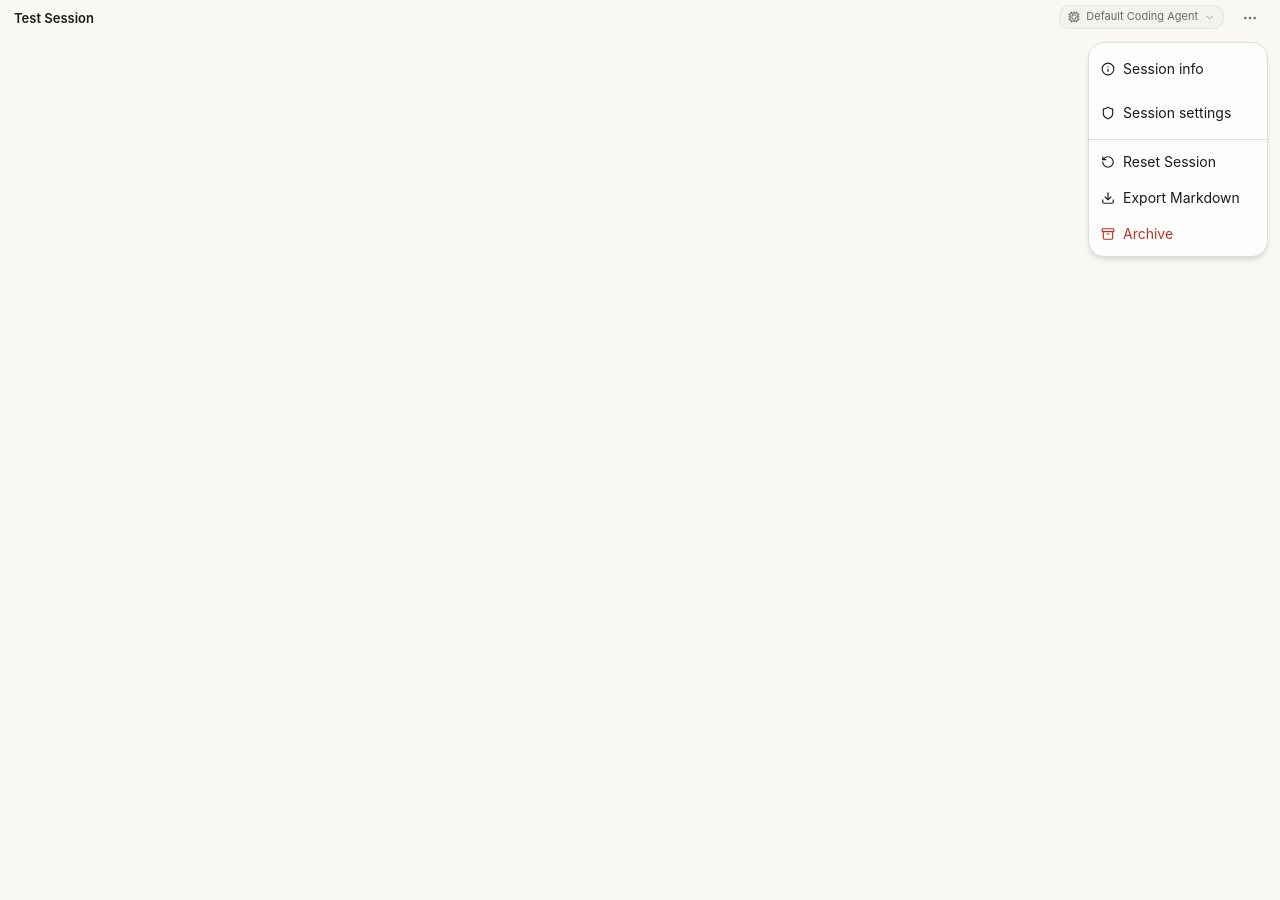
Test: SessionHeader › mobile session info › opens the info overlay (with context %) from the mobile menu and closes it again
The width and height of the screenshot is (1280, 900).
Click the button "Session info". click: (1178, 69)
box: top-left (1089, 47), bottom-right (1267, 91)
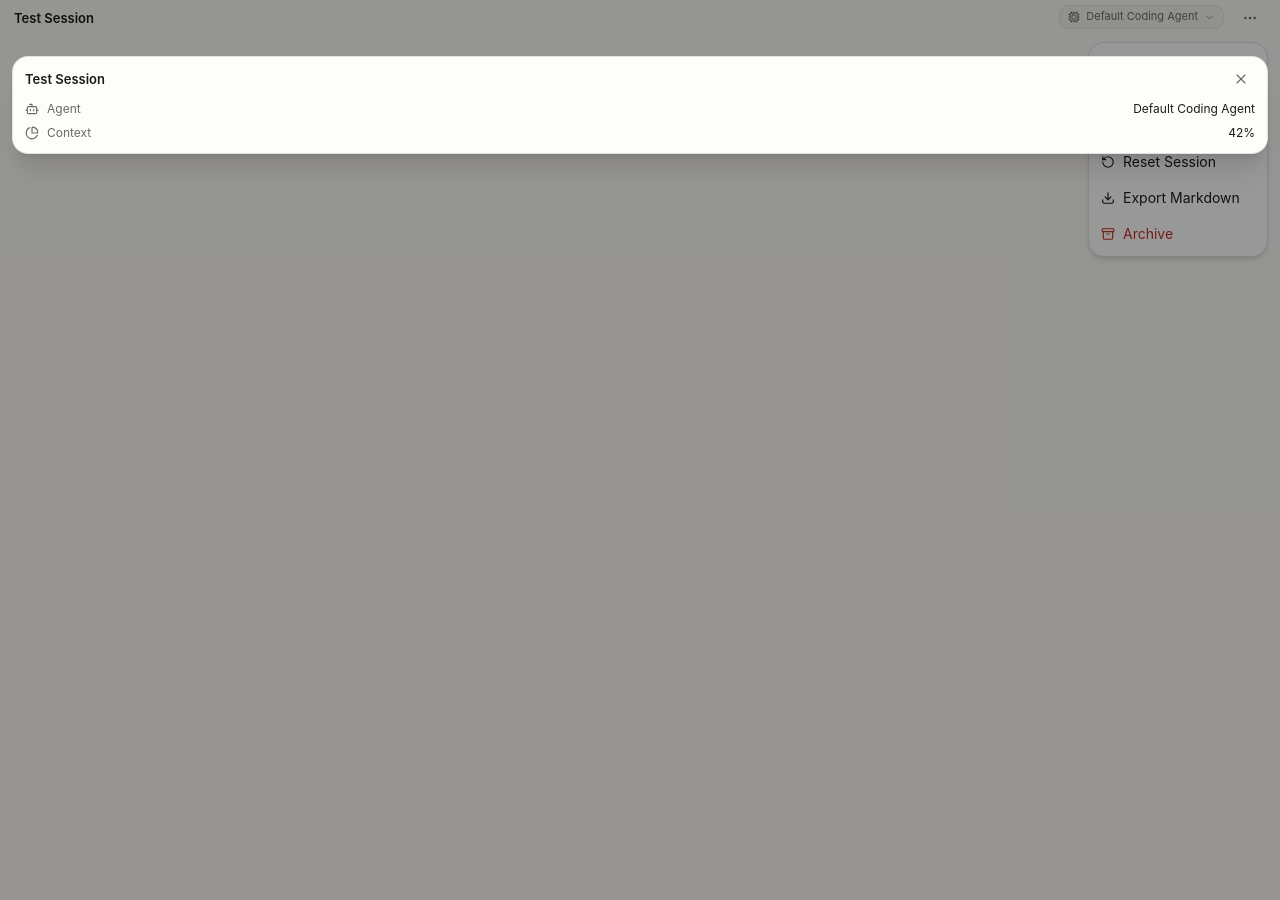
expect the dialog with test id "session-info-overlay" shows "Agent": met, box top-left (47, 101), bottom-right (81, 116)
expect the dialog with test id "session-info-overlay" shows "42%": met, box top-left (1228, 125), bottom-right (1255, 140)
Click the button named "Close session info". click: (1241, 79)
box: top-left (1219, 57), bottom-right (1263, 101)
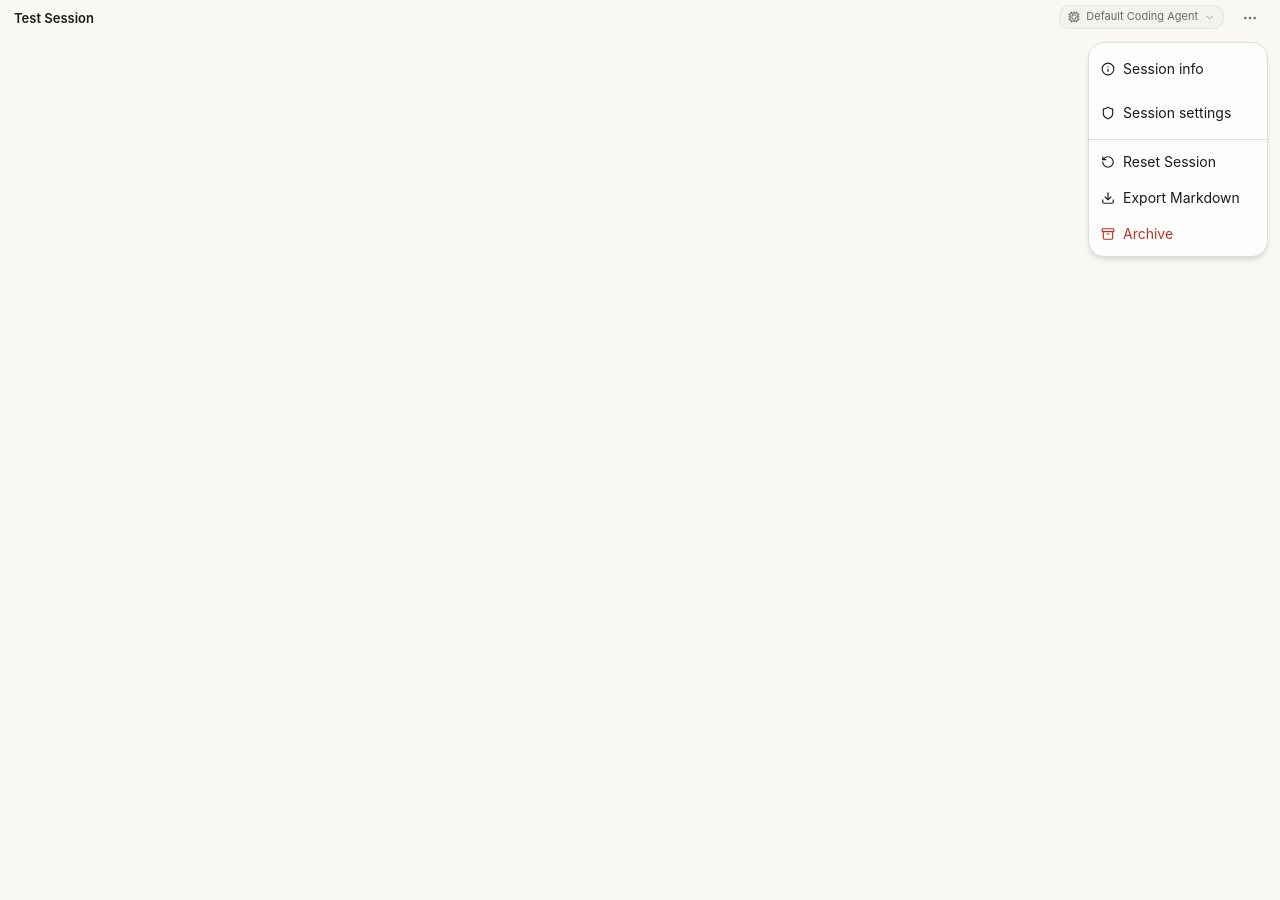
expect the dialog with test id "session-info-overlay" is gone: met
